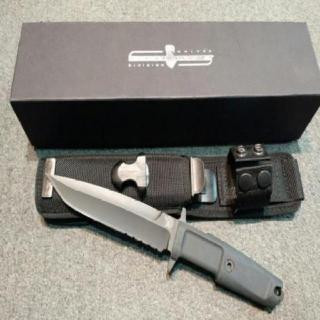knife: (38, 165, 195, 278)
